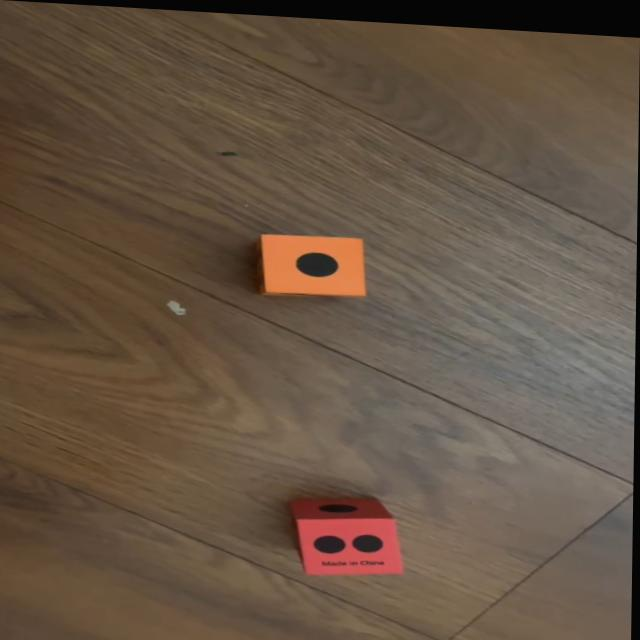red_block: (289, 491, 408, 574)
